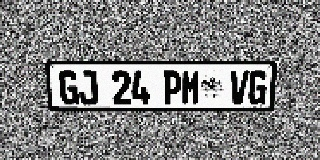2: (112, 70, 131, 105)
4: (131, 70, 150, 105)
G: (58, 70, 79, 105), (247, 70, 268, 105)
J: (78, 70, 98, 105)
M: (181, 70, 201, 105)
P: (163, 70, 181, 105)
V: (229, 70, 249, 105)
